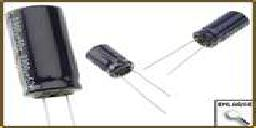Electrolytic Capacitor: (2, 6, 83, 128), (142, 8, 256, 81), (86, 44, 133, 91)
